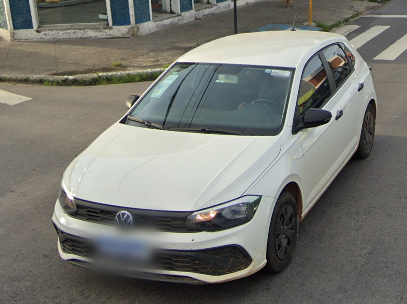car: (50, 28, 386, 287)
